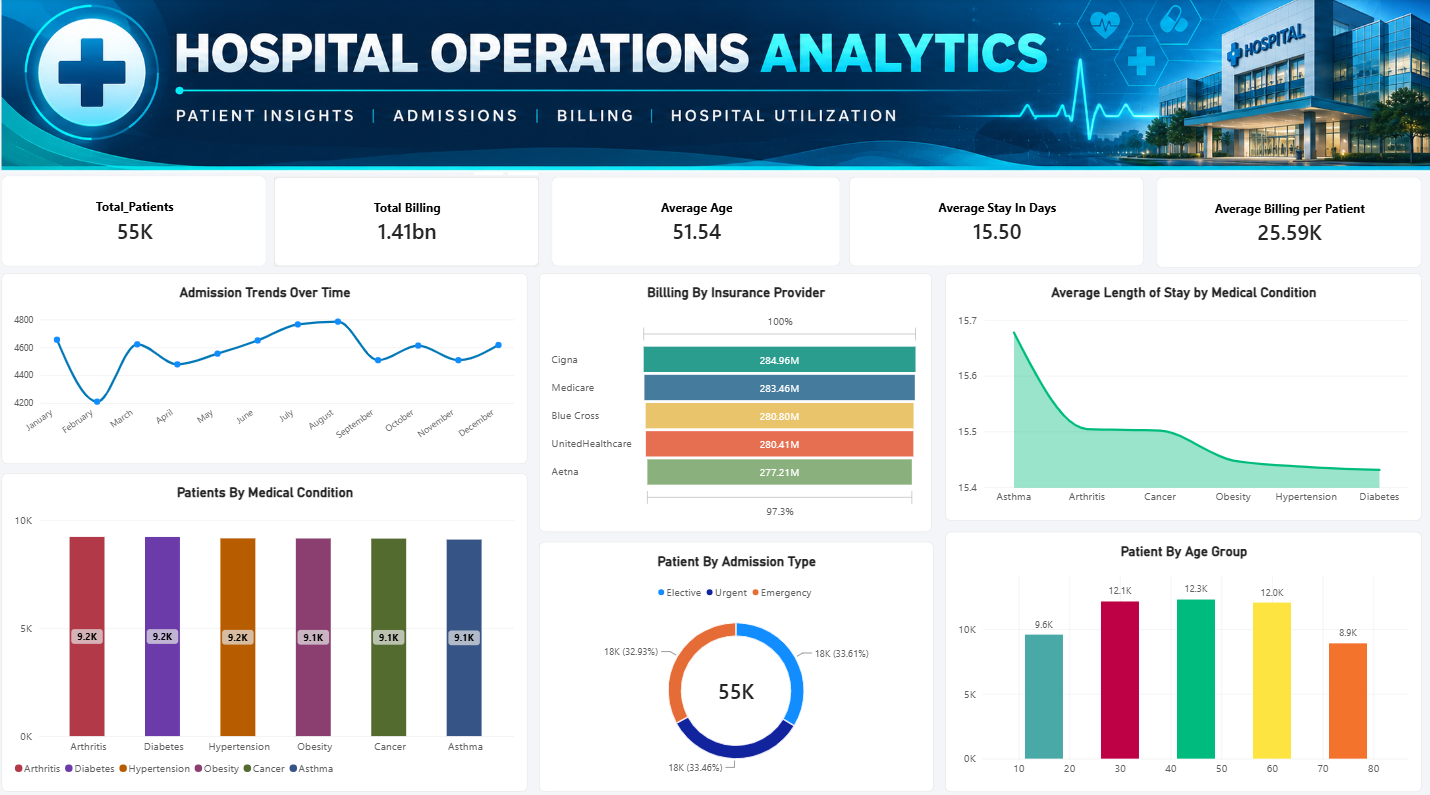

Layout of this report page (visuals, bound fields, positions):
{"tool":"powerbi","page":{"name":"Page 1","canvas":[1920,1080],"ordinal":0},"visuals":[{"type":"cardVisual","fields":{"Data":["Cleaned_Healthcare.Total_Patients"]},"box":[1493,0,143,123.8],"z":0},{"type":"cardVisual","fields":{"Data":["Cleaned_Healthcare.Sum of Billing Amount max per Billing Amount 2"]},"box":[1336.1,0,141.3,123.8],"z":1000},{"type":"cardVisual","fields":{"Data":["Cleaned_Healthcare.Average Billing"]},"box":[1159.9,0,155.2,123.8],"z":2000},{"type":"cardVisual","fields":{"Data":["Cleaned_Healthcare.Average Stay"]},"box":[959.3,0,188.4,123.8],"z":3000},{"type":"cardVisual","fields":{"Data":["Cleaned_Healthcare.Average Age"]},"box":[825,0,126.1,127.9],"z":4000},{"type":"lineChart","title":"Admission Trends Over Time","fields":{"Category":["Cleaned_Healthcare.Date of Admission.Variation.Date Hierarchy.Month"],"Y":["Cleaned_Healthcare.Total_Patients"]},"box":[0,0,823.1,248.6],"z":5000},{"type":"clusteredBarChart","title":"Patients By Medical Condition","fields":{"Category":["Cleaned_Healthcare.Medical Condition"],"Y":["Cleaned_Healthcare.Total_Patients"]},"box":[0,261.2,817.4,296.8],"z":6000},{"type":"clusteredBarChart","title":"Billing Amount By Hospital","fields":{"Category":["Cleaned_Healthcare.Hospital"],"Y":["Cleaned_Healthcare.Total Billing"]},"box":[0,575.7,818.1,504.7],"z":7000},{"type":"donutChart","title":"Patient By Admission Type","fields":{"Category":["Cleaned_Healthcare.Admission Type"],"Y":["Cleaned_Healthcare.Total_Patients"]},"box":[959.3,130.8,462.2,430.8],"z":8000},{"type":"barChart","title":"Billling By Insurance Provider","fields":{"Category":["Cleaned_Healthcare.Insurance Provider"],"Y":["Cleaned_Healthcare.Total Billing"]},"box":[1261.1,575.6,659.3,504.1],"z":9000},{"type":"clusteredColumnChart","title":"Patient By Age Group","fields":{"Y":["Cleaned_Healthcare.Total_Patients"],"Category":["Cleaned_Healthcare.Age (bins)"]},"box":[1435.5,127.3,484.5,435.2],"z":10000},{"type":"clusteredColumnChart","fields":{"Category":["Cleaned_Healthcare.Admission Type"],"Y":["Sum(Cleaned_Healthcare.Billing Amount)"]},"box":[900,596.5,305.2,308.7],"z":10001}]}

Visuals, with their boxes in screenshot pixels (x1, y1, x2, y2), scaled from the page's 1920x1080 canvas onto the 1430x795 screenshot:
cardVisual - Cleaned_Healthcare.Total_Patients: BBox(1112, 0, 1218, 91)
cardVisual - Cleaned_Healthcare.Sum of Billing Amount max per Billing Amount 2: BBox(995, 0, 1100, 91)
cardVisual - Cleaned_Healthcare.Average Billing: BBox(864, 0, 979, 91)
cardVisual - Cleaned_Healthcare.Average Stay: BBox(714, 0, 855, 91)
cardVisual - Cleaned_Healthcare.Average Age: BBox(614, 0, 708, 94)
"Admission Trends Over Time" lineChart: BBox(0, 0, 613, 183)
"Patients By Medical Condition" clusteredBarChart: BBox(0, 192, 609, 411)
"Billing Amount By Hospital" clusteredBarChart: BBox(0, 424, 609, 794)
"Patient By Admission Type" donutChart: BBox(714, 96, 1059, 413)
"Billling By Insurance Provider" barChart: BBox(939, 424, 1429, 794)
"Patient By Age Group" clusteredColumnChart: BBox(1069, 94, 1429, 414)
clusteredColumnChart - Cleaned_Healthcare.Admission Type x Sum(Cleaned_Healthcare.Billing Amount): BBox(670, 439, 898, 666)
